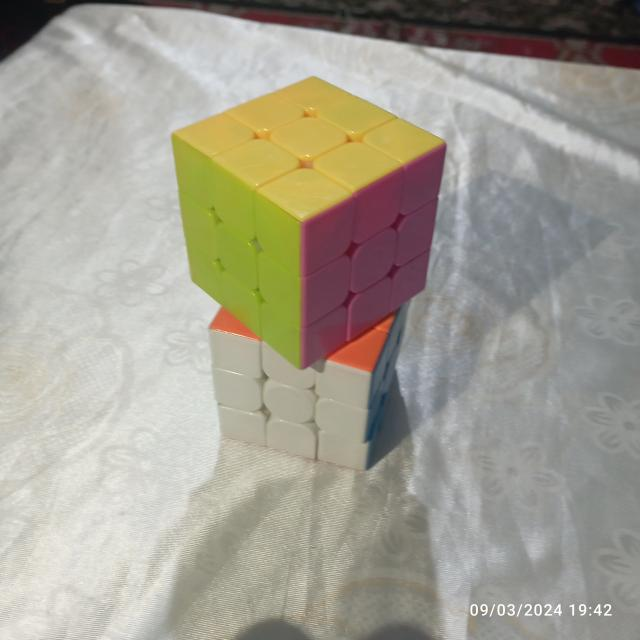Rub: (169, 68, 450, 373)
